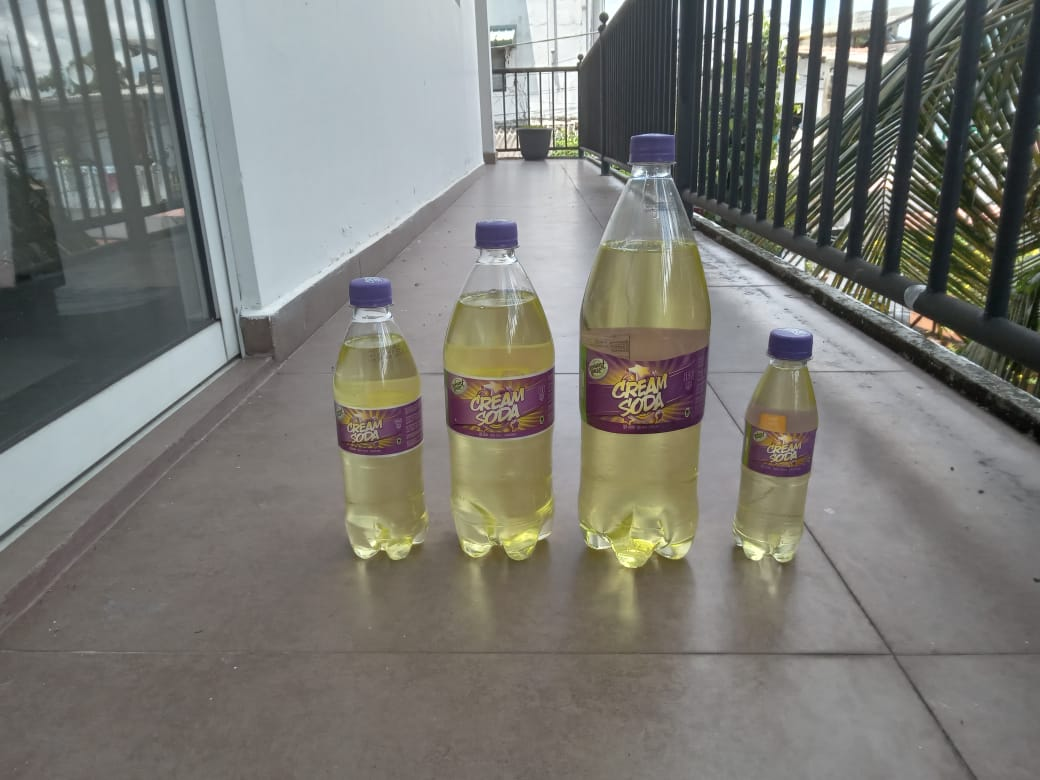L: (579, 132, 712, 570)
M: (443, 223, 556, 563)
S: (331, 278, 429, 561)
Xs: (732, 329, 817, 568)
